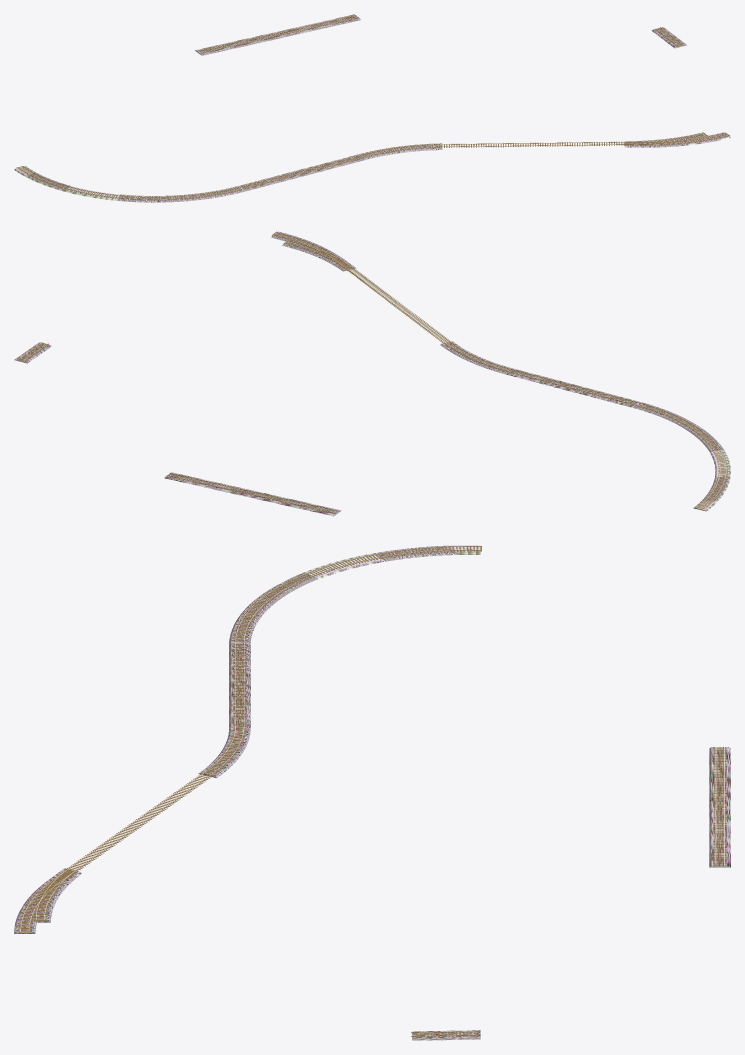
File: GMLID_18468614_329001_318.gltf
3 renders of one model, top to bottom at view 1: azimuth 30°, elevation 25°; view 2: azimuth 150°, elevation 25°; view 3: azimuth 270°, elevation 25°, orthographic. The views are drawn at different scales.
Parts seen in each view (by area): view 1: Z_UP; view 2: Z_UP; view 3: Z_UP.
Boxes of the visible parts, <box> form: Z_UP: <box>14,14,730,202</box>; Z_UP: <box>14,231,730,516</box>; Z_UP: <box>14,545,730,1040</box>.
Bounding box in the file's own units: 271 × 11.78 × 175.
5 materials, 1 textured.
